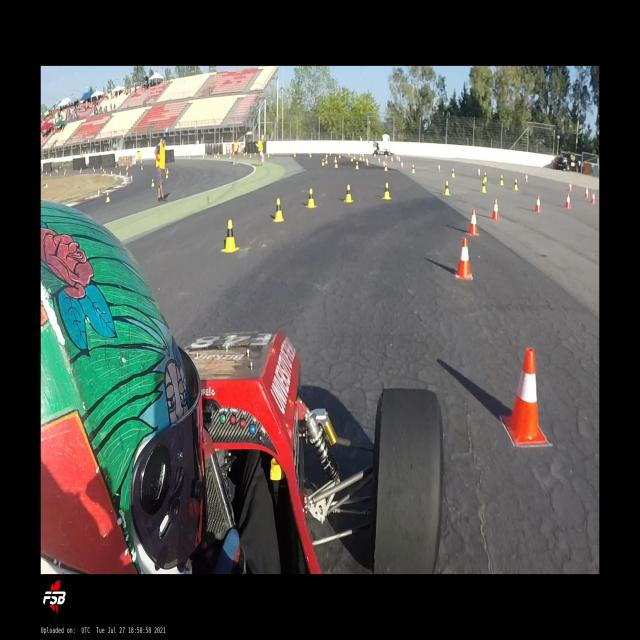orange_cone: (500, 347, 548, 445), (455, 237, 472, 280), (466, 208, 479, 236), (491, 199, 499, 221), (534, 195, 540, 213), (565, 192, 571, 208), (584, 186, 589, 198), (591, 191, 595, 204), (567, 182, 572, 192), (437, 164, 441, 172), (524, 174, 528, 182), (478, 168, 481, 176), (366, 158, 369, 166), (130, 174, 133, 180), (401, 160, 403, 168), (98, 190, 100, 198), (125, 179, 127, 186)
yellow_cone: (222, 219, 239, 253), (272, 198, 284, 222), (306, 188, 316, 208), (382, 182, 392, 200), (344, 184, 354, 202), (443, 180, 450, 196), (481, 179, 487, 193), (498, 174, 504, 186), (513, 178, 519, 190), (451, 168, 455, 178), (106, 192, 110, 202), (384, 163, 388, 172), (355, 160, 359, 169), (484, 171, 487, 182), (335, 160, 338, 168), (325, 156, 328, 164), (152, 178, 154, 187), (412, 165, 414, 173), (322, 158, 324, 166), (166, 171, 168, 178), (335, 156, 336, 162)
